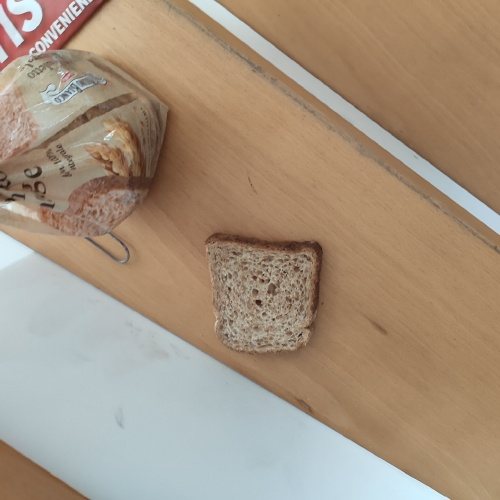pane: (202, 228, 327, 356)
